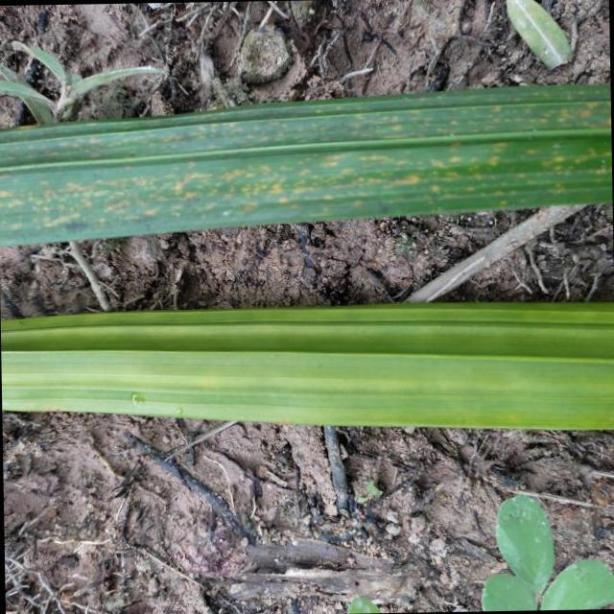nitrogen: (1, 297, 614, 430)
